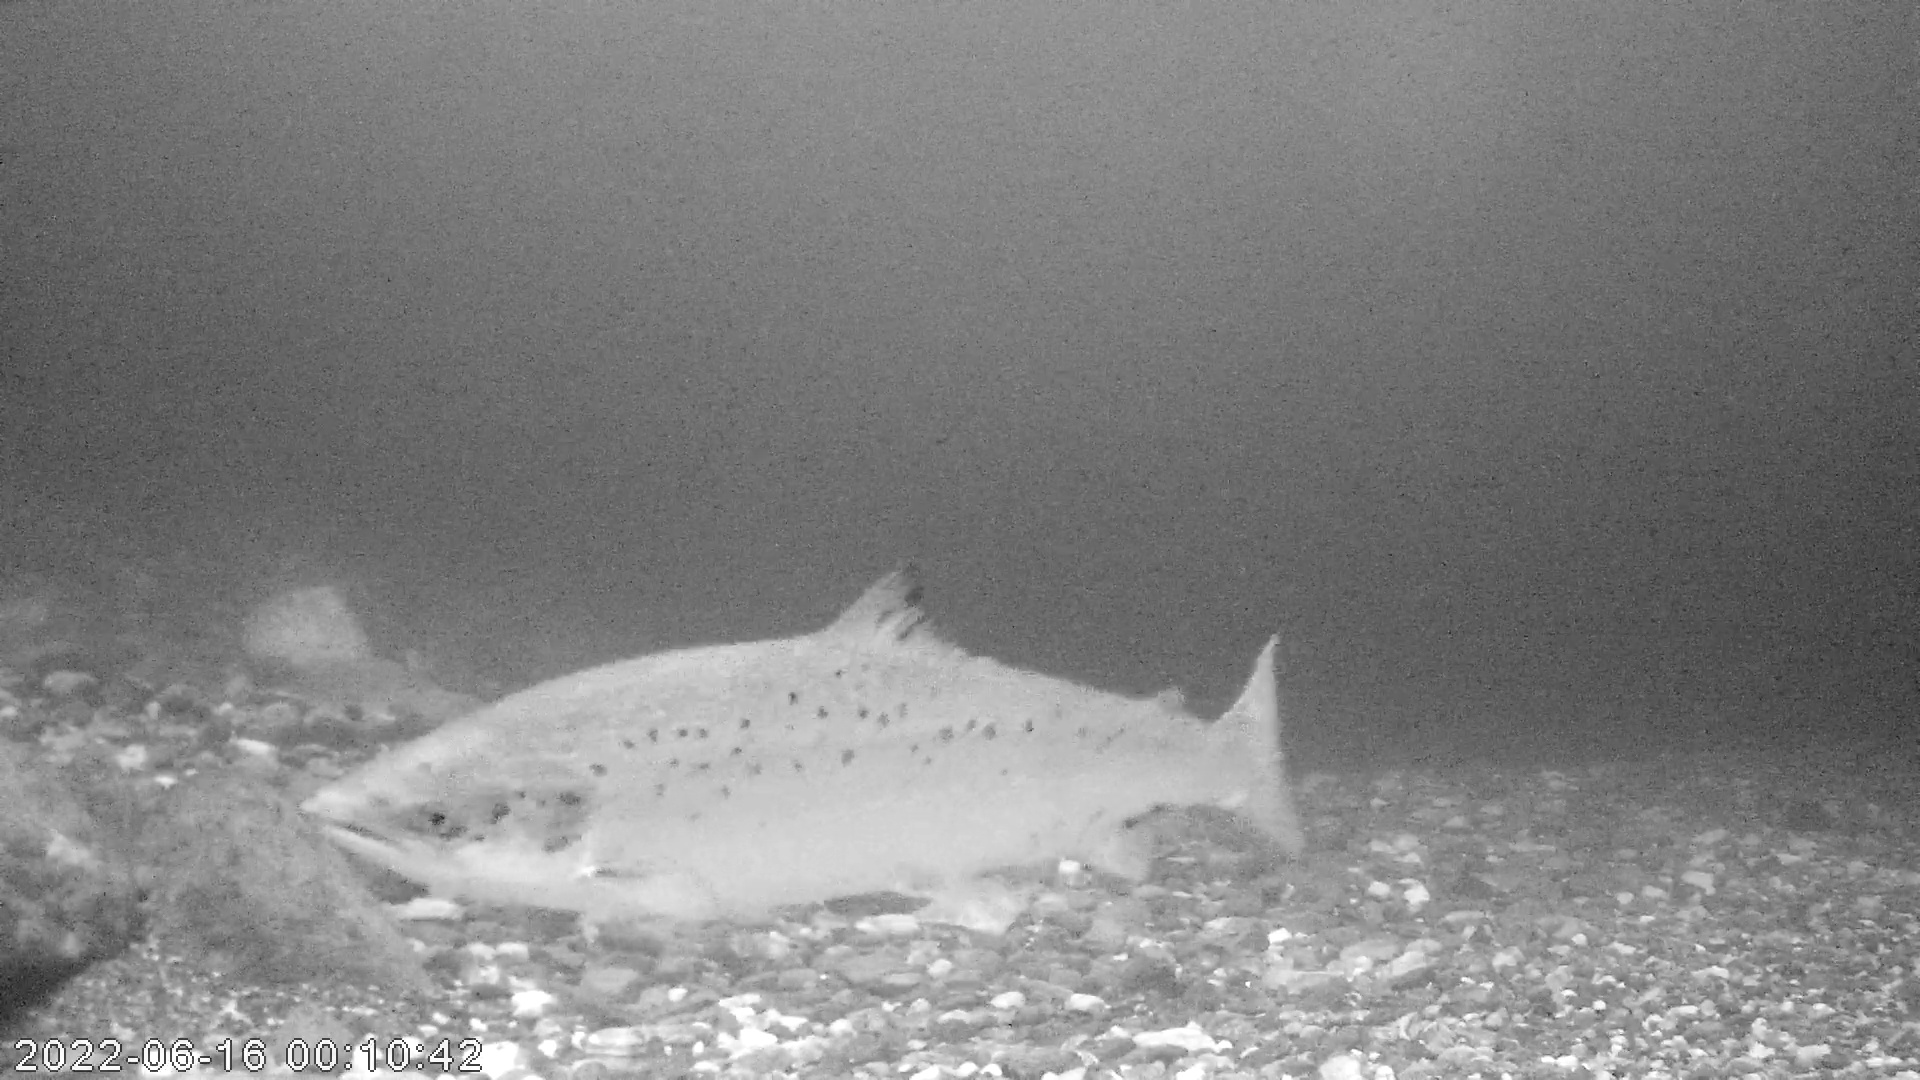salmon: (299, 555, 1307, 927)
